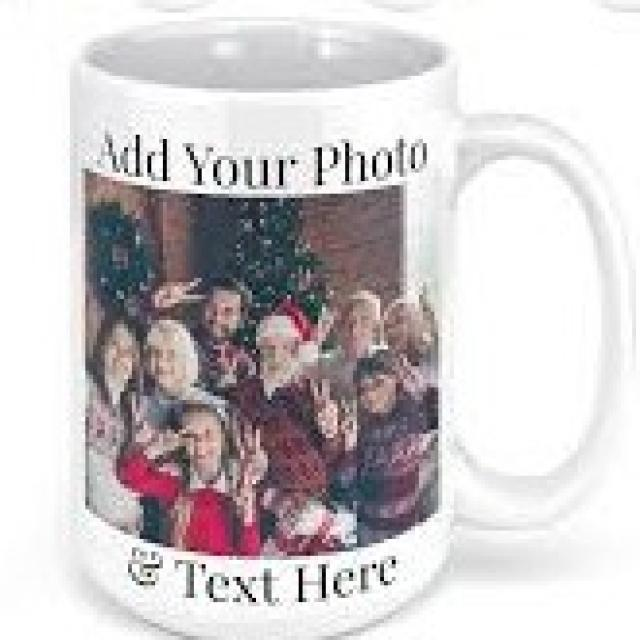taza: (54, 17, 640, 636)
